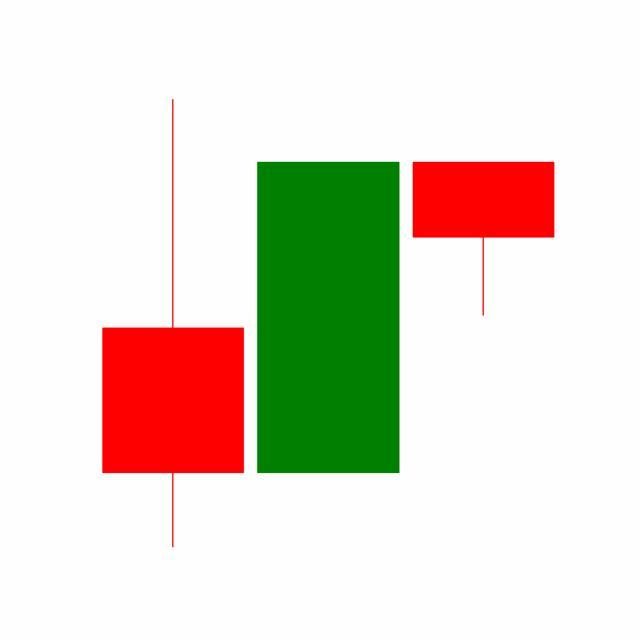Hanging Man: (406, 161, 562, 318)
